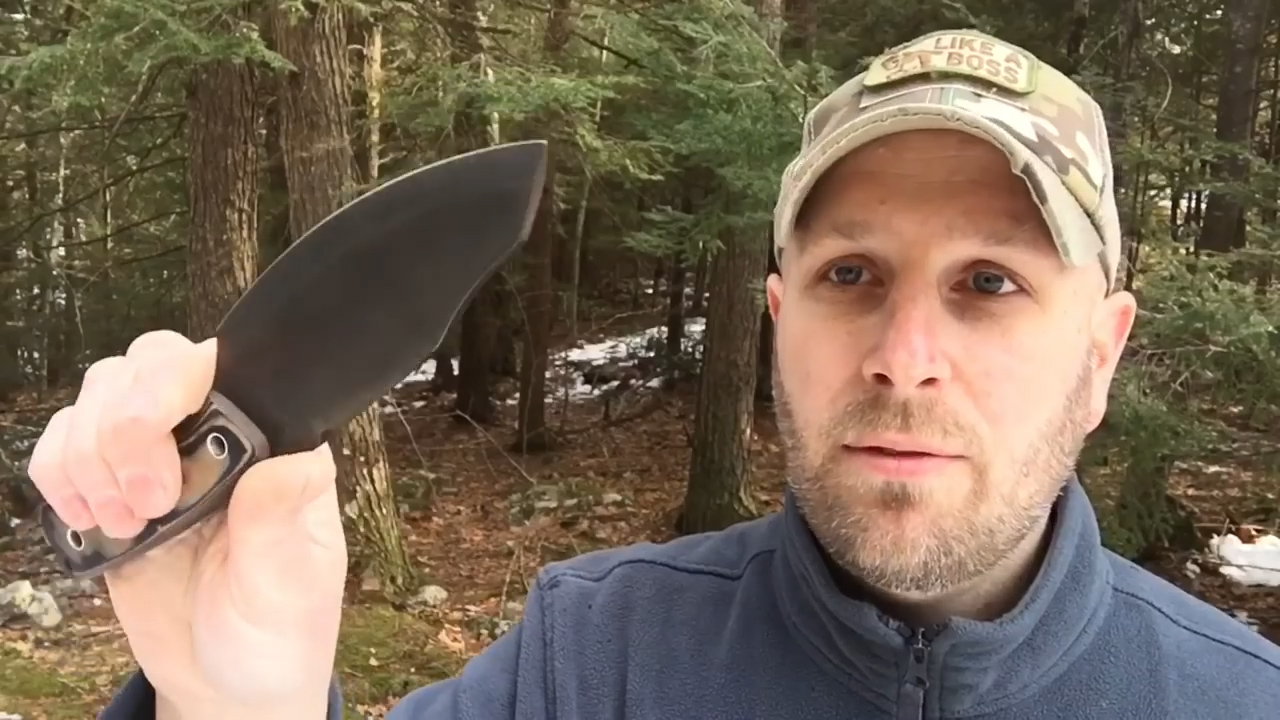knife: (93, 130, 567, 538)
